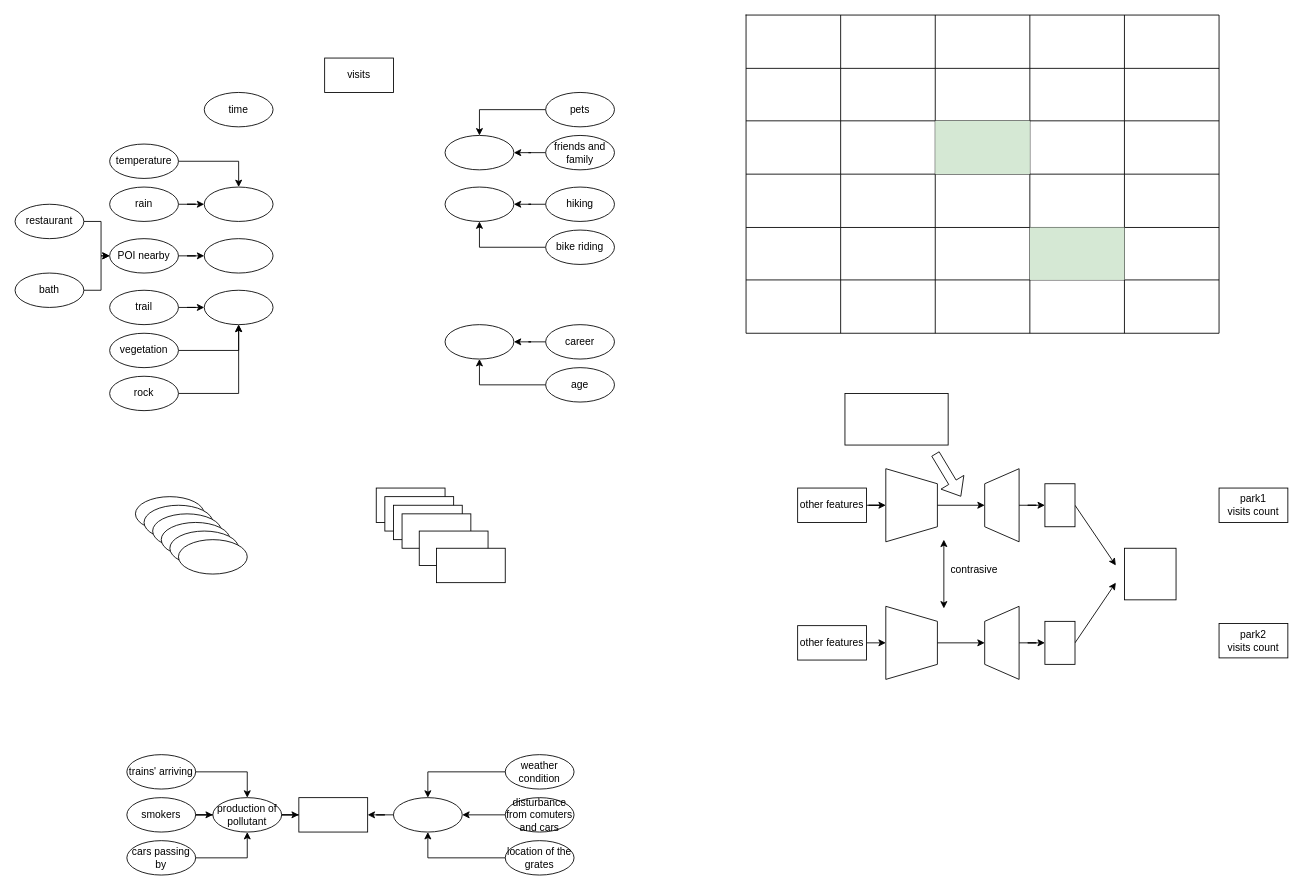
Some shapes in this 1303 by 890 pixel diagram are drawn without their labels. The centre of each missing label's shape, as x and y in pixels:
companion: the point at 479,152
concentration: the point at 333,814
cross correlation ...: the point at 1150,573
facilities: the point at 238,307
hobbies: the point at 479,203
location: the point at 238,255
representations: the point at 896,419
spare time: the point at 479,341
speed of diffusion: the point at 427,814
weather: the point at 238,203
